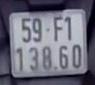0: (72, 44, 84, 70)
1: (14, 46, 25, 73), (63, 16, 74, 42)
3: (26, 45, 40, 72)
5: (19, 17, 32, 44)
6: (57, 44, 70, 70)
8: (41, 44, 54, 71)
9: (31, 18, 44, 43)
F: (51, 13, 64, 43)
